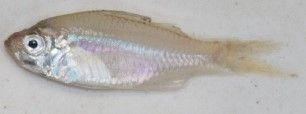Glass Perchlet: (6, 9, 297, 96)
